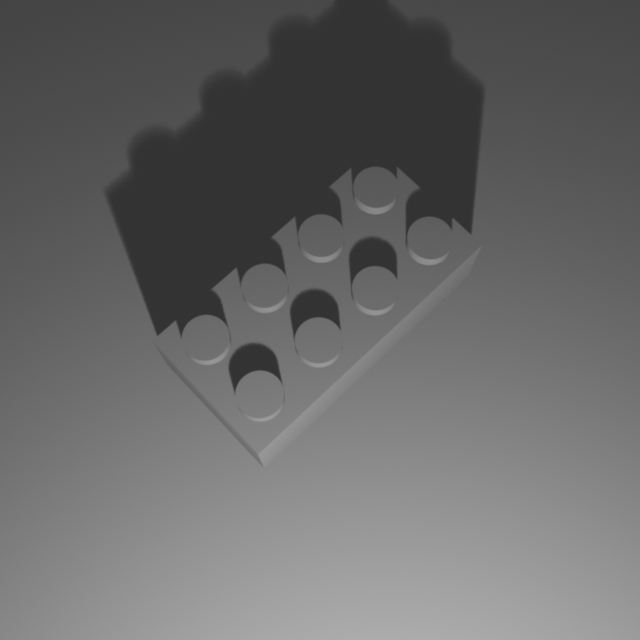lego_2x4: (149, 139, 485, 468)
